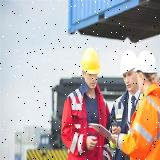Helmet: (134, 50, 158, 76), (81, 46, 101, 74), (120, 49, 138, 75)
